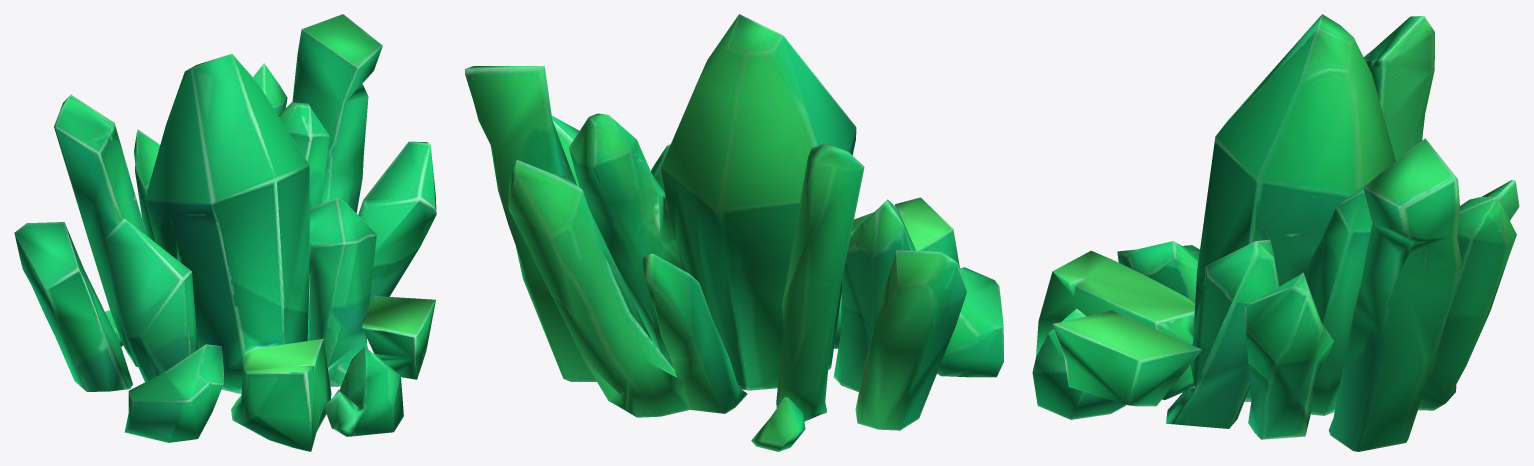
Rendered from crystal-green.glb.
3 views of the same model, side by side, from view 1: azimuth 30°, elevation 25°; view 2: azimuth 150°, elevation 25°; view 3: azimuth 270°, elevation 25° (orthographic). The views are drawn at different scales.
Size of the model in its own units: 1.87 by 1.38 by 1.72.
1 material, 1 textured.
